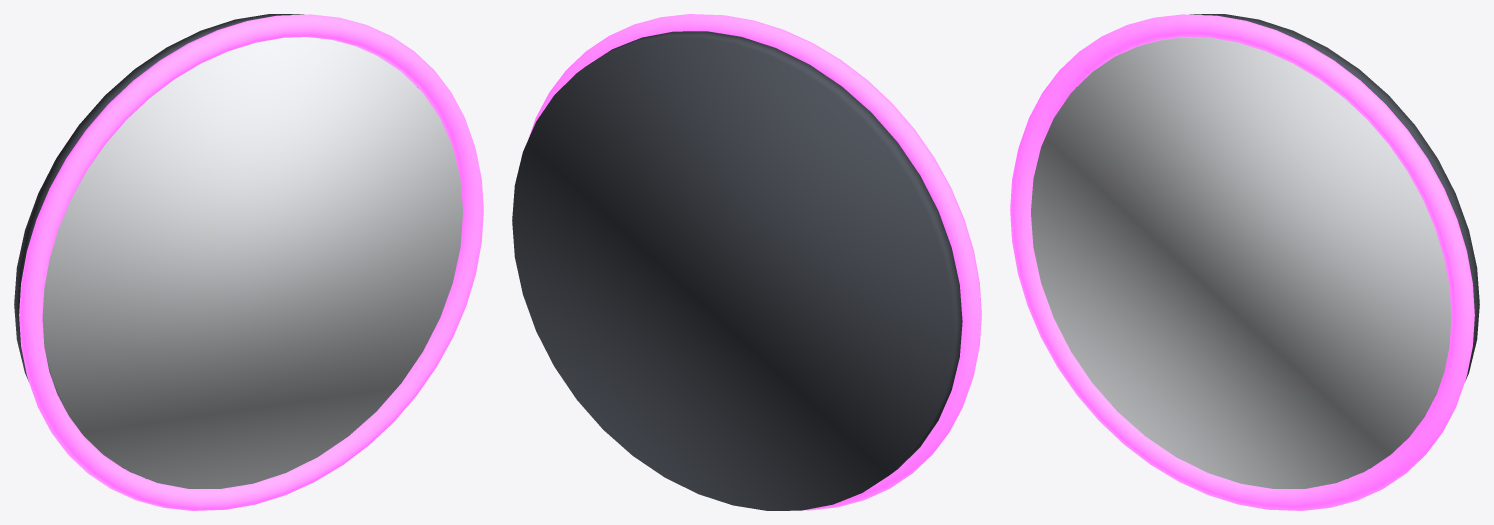
The model's file is mirror_round_halo.glb.
3 views of the same model, side by side, from view 1: azimuth 30°, elevation 25°; view 2: azimuth 150°, elevation 25°; view 3: azimuth 330°, elevation 25° (orthographic).
Parts seen in each view (by area): view 1: GD_mirror_round_halo__m0, GD_mirror_round_halo__m1, GD_mirror_round_halo__m2; view 2: GD_mirror_round_halo__m2, GD_mirror_round_halo__m1; view 3: GD_mirror_round_halo__m0, GD_mirror_round_halo__m1, GD_mirror_round_halo__m2.
Part boxes in pixels (x1,y1,x2,y2): GD_mirror_round_halo__m0: (42, 37, 462, 488); GD_mirror_round_halo__m1: (19, 14, 483, 510); GD_mirror_round_halo__m2: (14, 14, 417, 478); GD_mirror_round_halo__m2: (512, 31, 962, 510); GD_mirror_round_halo__m1: (528, 14, 981, 510); GD_mirror_round_halo__m0: (1031, 37, 1451, 488); GD_mirror_round_halo__m1: (1010, 14, 1474, 510); GD_mirror_round_halo__m2: (1076, 14, 1479, 478).
Bounding box in the file's own units: 0.88 × 0.88 × 0.075.
